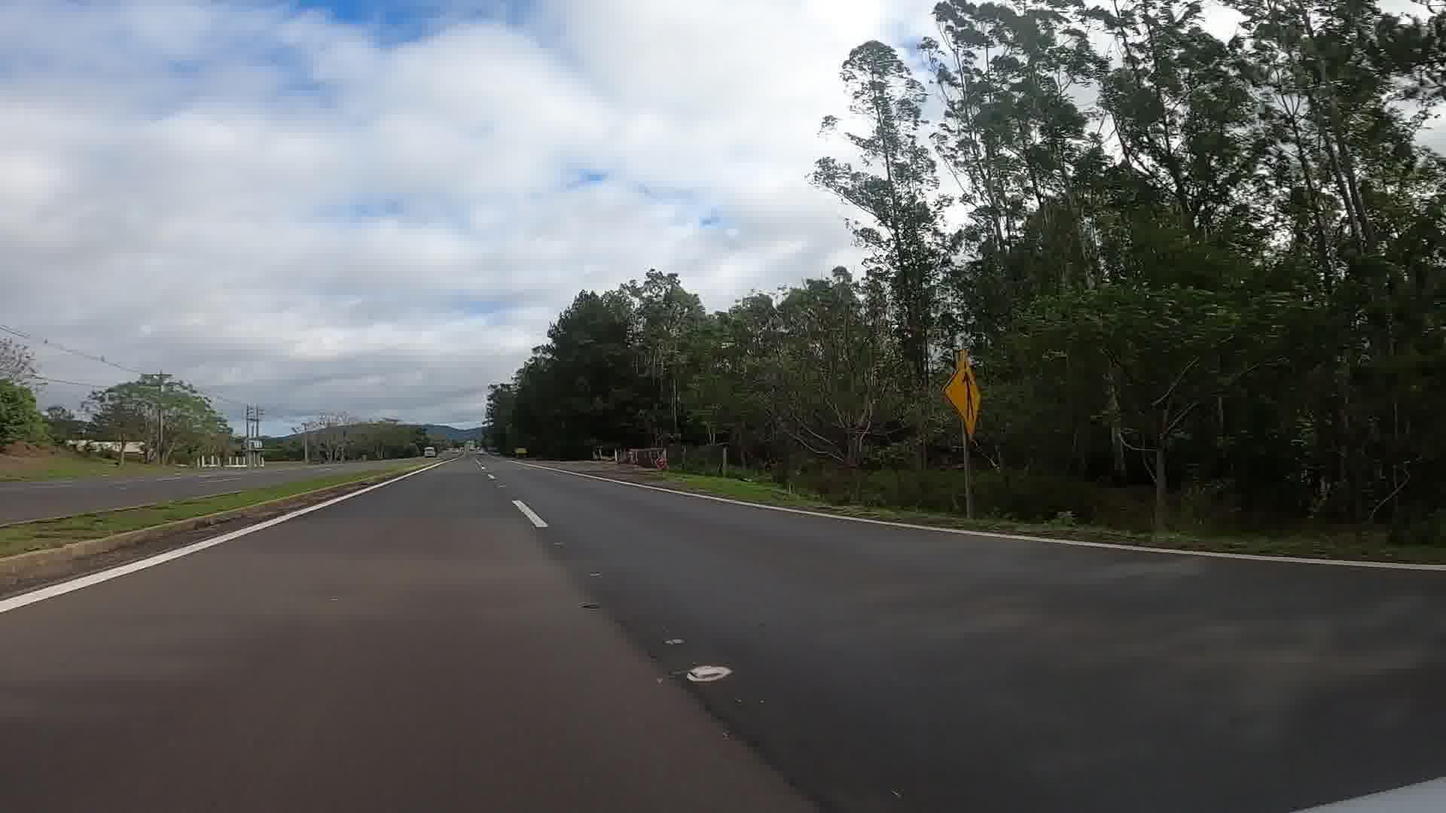A-32a: (939, 352, 988, 439)
